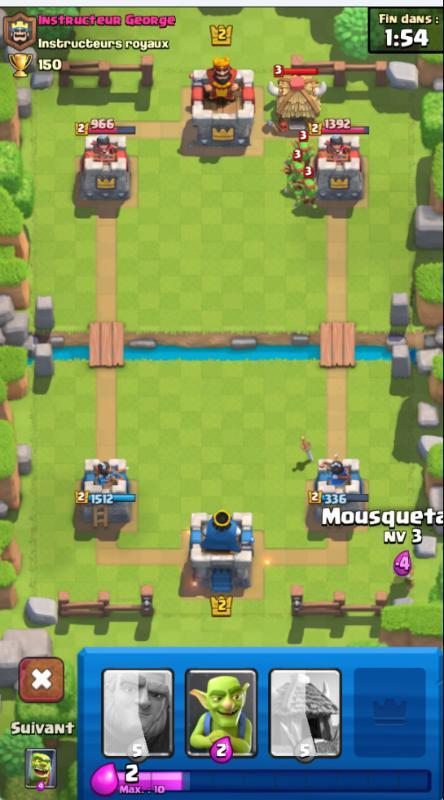enemy_goblin_hut: (264, 63, 329, 133)
enemy_spear_goblins: (290, 174, 323, 209), (279, 158, 311, 191), (290, 135, 315, 163)
